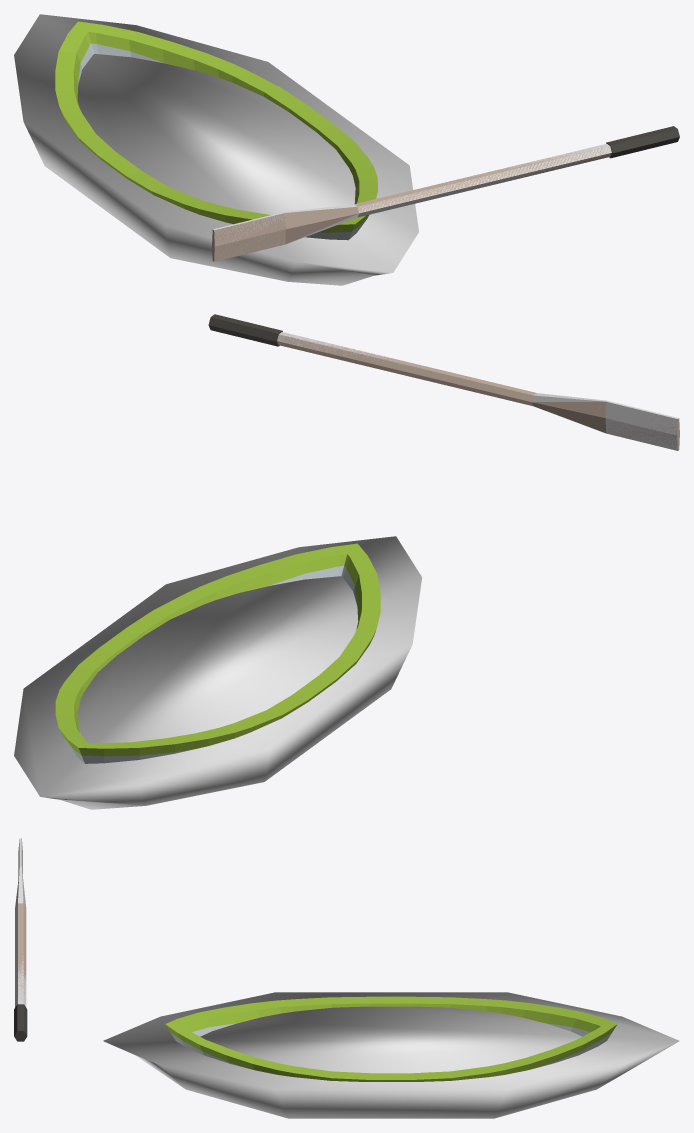
Rendered from PolesRoom.fbx.
The picture shows the model from 3 angles, top to bottom: view 1: azimuth 30°, elevation 25°; view 2: azimuth 150°, elevation 25°; view 3: azimuth 270°, elevation 25°; orthographic projection. The views are drawn at different scales.
Parts seen in each view (by area): view 1: Gondola, Paddle.004, Paddle.001.COL2.001, Gondola.017, Gondola.015, Gondola.016, Gondola.008, Gondola.009, Paddle.005, Gondola.007, Gondola.010, Gondola.014 (+5 smaller); view 2: Gondola, Paddle.004, Paddle.001.COL1.001, Gondola.013, Gondola.015, Gondola.014, Gondola.008, Gondola.005, Paddle.005, Gondola.011, Gondola.010, Gondola.012 (+4 smaller); view 3: Gondola, Gondola.008, Gondola.015, Gondola.010, Gondola.007, Gondola.011, Gondola.006, Gondola.014, Gondola.016, Paddle.004, Gondola.017, Gondola.013 (+6 smaller).
Part boxes in pixels (<box>): Gondola: <box>14,14,418,285</box>; Paddle.004: <box>212,146,611,261</box>; Paddle.001.COL2.001: <box>357,143,611,217</box>; Gondola.017: <box>129,32,206,70</box>; Gondola.015: <box>263,88,354,149</box>; Gondola.016: <box>194,53,280,96</box>; Gondola.008: <box>78,133,167,194</box>; Gondola.009: <box>78,21,138,57</box>; Paddle.005: <box>606,126,679,158</box>; Gondola.007: <box>152,187,238,222</box>; Gondola.010: <box>55,89,95,140</box>; Gondola.014: <box>336,142,377,187</box>; Gondola: <box>14,536,421,809</box>; Paddle.004: <box>277,333,679,450</box>; Paddle.001.COL1.001: <box>532,393,678,450</box>; Gondola.013: <box>227,554,305,592</box>; Gondola.015: <box>79,610,170,672</box>; Gondola.014: <box>153,576,240,618</box>; Gondola.008: <box>267,656,357,717</box>; Gondola.005: <box>297,543,356,579</box>; Paddle.005: <box>208,314,282,346</box>; Gondola.011: <box>130,733,208,759</box>; Gondola.010: <box>195,710,282,745</box>; Gondola.012: <box>78,742,139,763</box>; Gondola: <box>103,992,679,1118</box>; Gondola.008: <box>331,996,451,1007</box>; Gondola.015: <box>331,1071,451,1081</box>; Gondola.010: <box>450,997,530,1017</box>; Gondola.007: <box>252,997,331,1017</box>; Gondola.011: <box>522,1003,583,1030</box>; Gondola.006: <box>199,1003,259,1030</box>; Gondola.014: <box>252,1058,331,1080</box>; Gondola.016: <box>450,1057,529,1080</box>; Paddle.004: <box>15,839,26,993</box>; Gondola.017: <box>527,1040,583,1069</box>; Gondola.013: <box>199,1040,255,1070</box>.
Bounding box in the file's own units: 7.28 × 2.84 × 11.12.
1 material, 1 textured.
